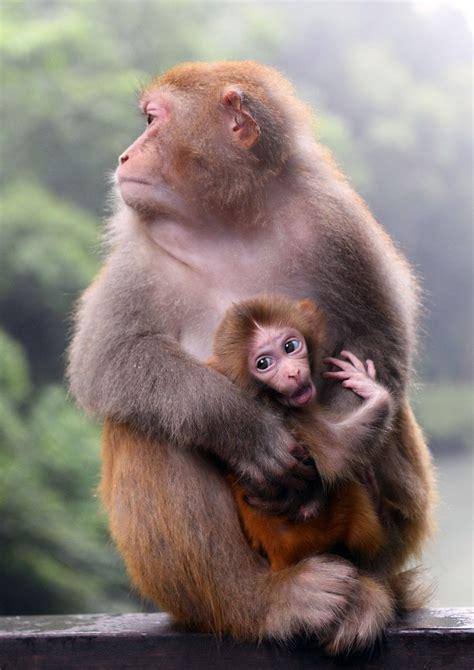monkey: (70, 63, 431, 647), (217, 299, 390, 564)
